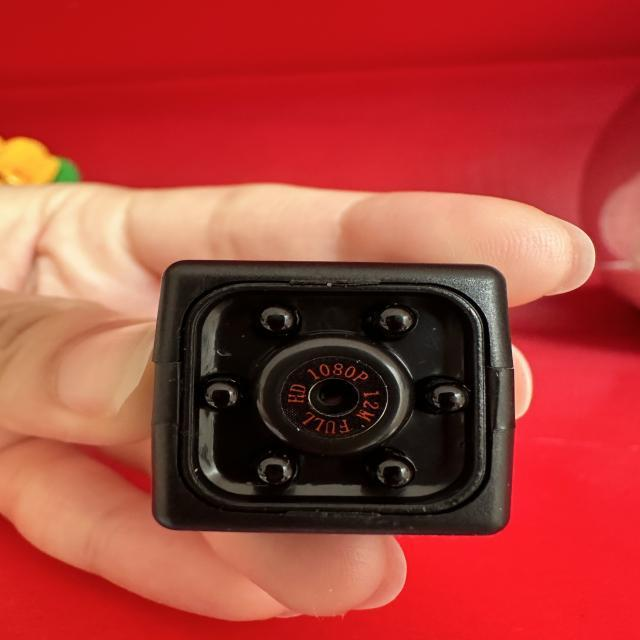hidden camera: (305, 371, 366, 422)
